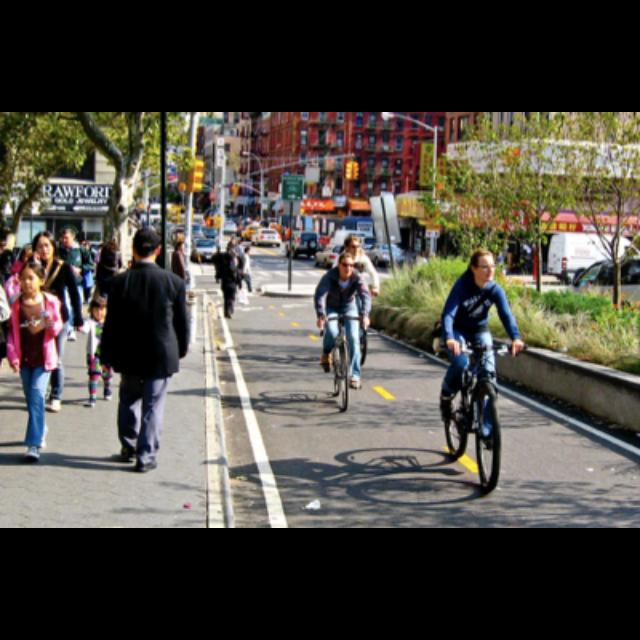Without Helmet: (467, 246, 501, 284), (334, 250, 358, 276)
